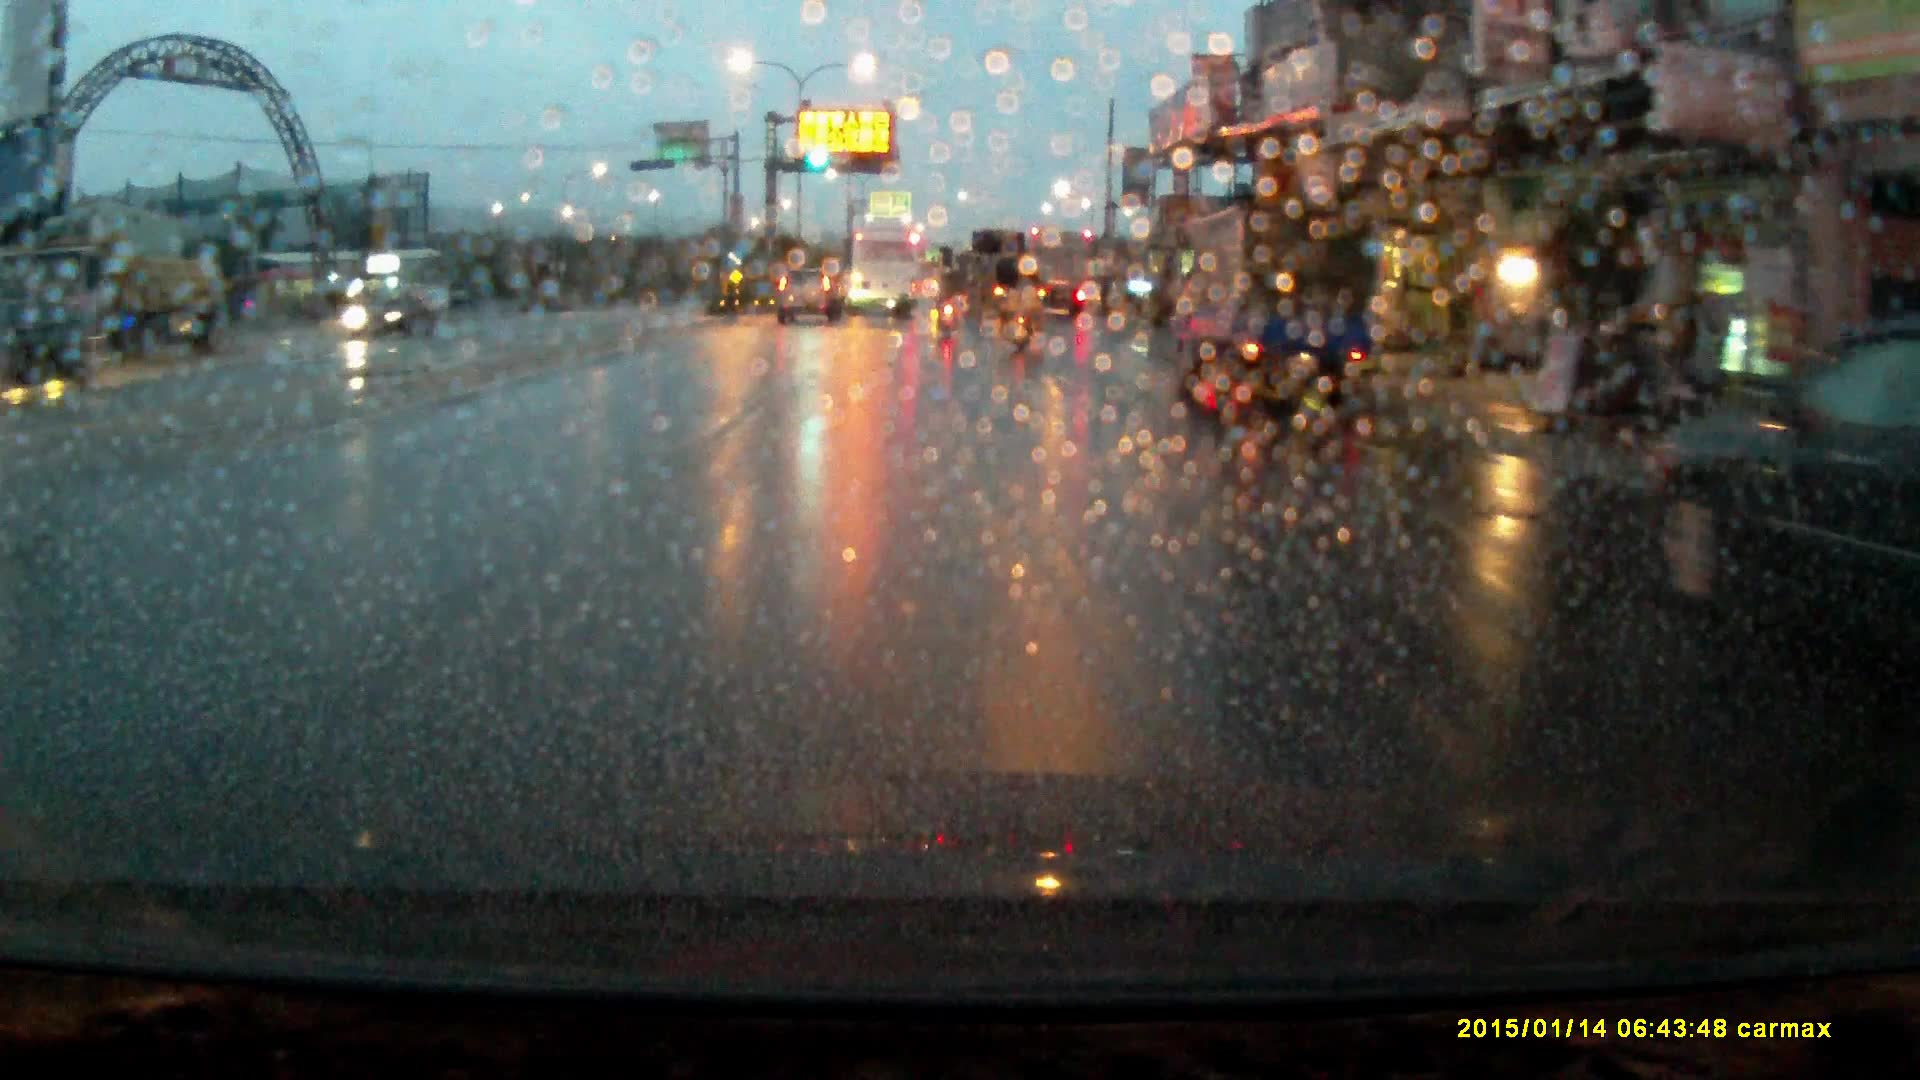rider: (1002, 276, 1042, 361), (932, 272, 963, 337)
vehicle: (1166, 210, 1389, 421), (17, 239, 236, 358), (969, 231, 1042, 323), (849, 233, 922, 322), (1032, 234, 1097, 321), (348, 284, 432, 347), (777, 268, 844, 328)
